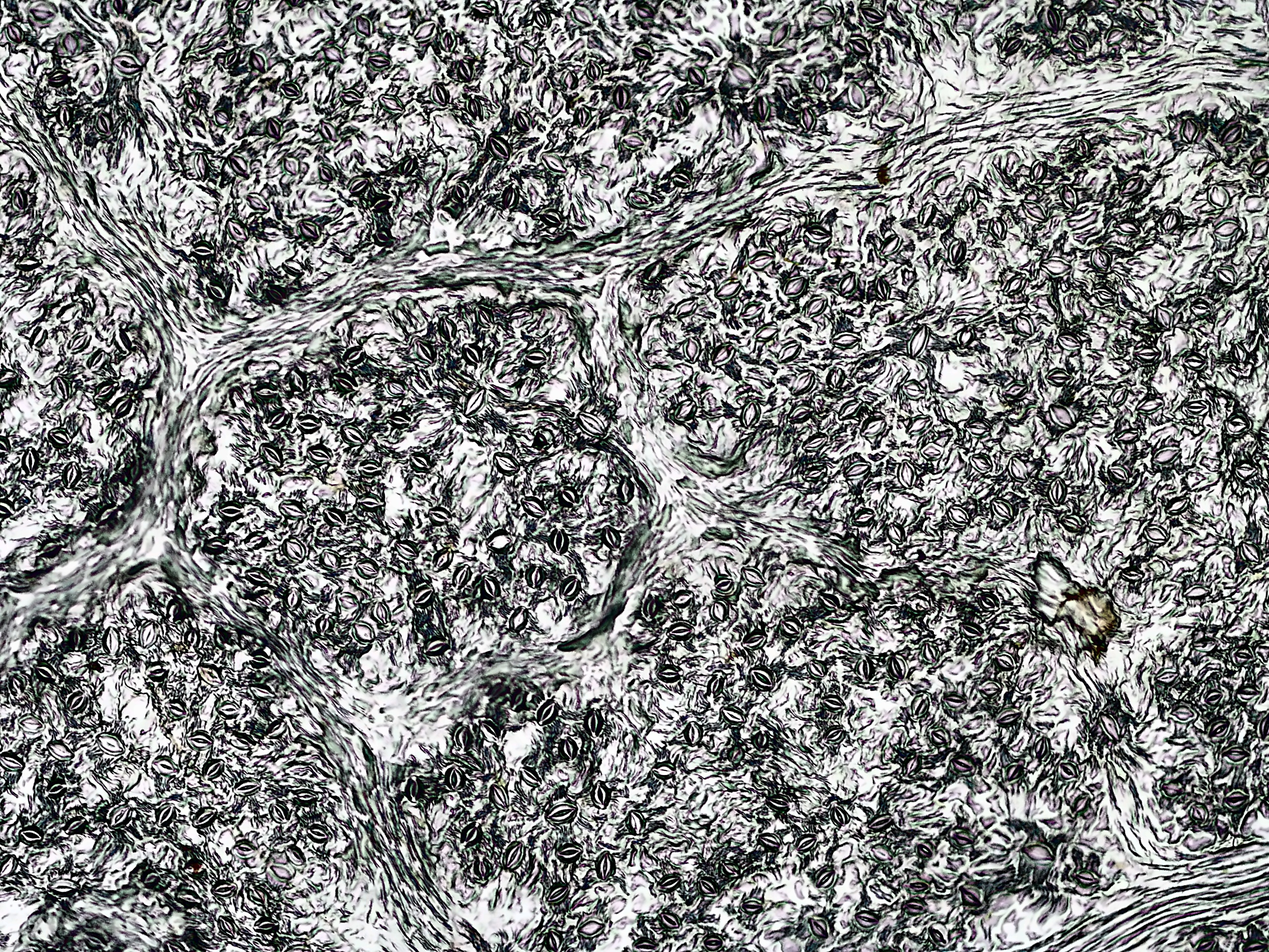stomata: (576, 409, 608, 438), (593, 850, 619, 882), (907, 324, 930, 360), (462, 386, 487, 416), (1040, 256, 1074, 278), (95, 732, 126, 756), (1049, 402, 1076, 429), (1098, 711, 1122, 741), (547, 801, 578, 823), (487, 135, 513, 161), (197, 663, 225, 687), (728, 61, 757, 84), (111, 52, 142, 73), (495, 451, 521, 476), (487, 529, 514, 553), (1022, 198, 1049, 222), (847, 82, 870, 110), (222, 219, 251, 241), (502, 841, 524, 870), (590, 780, 611, 810), (830, 330, 863, 349), (1003, 272, 1028, 297), (540, 150, 568, 172), (709, 345, 737, 367), (490, 782, 512, 810), (260, 442, 284, 467), (354, 494, 387, 512), (770, 22, 792, 49), (556, 841, 583, 863), (279, 499, 307, 520), (667, 621, 695, 642), (1091, 247, 1112, 275), (897, 460, 917, 489), (104, 626, 122, 658), (341, 423, 366, 446), (776, 340, 801, 363), (797, 106, 819, 132), (185, 730, 215, 749), (405, 775, 424, 805), (549, 528, 570, 555), (47, 878, 80, 895), (1022, 845, 1055, 862), (152, 755, 180, 775), (1046, 367, 1074, 387), (1224, 744, 1252, 764), (193, 151, 211, 182), (228, 153, 251, 177), (586, 708, 605, 737), (1073, 870, 1102, 889), (394, 538, 419, 560), (415, 338, 437, 363), (190, 239, 216, 260), (217, 500, 243, 521), (284, 537, 305, 563), (559, 574, 580, 600), (715, 278, 741, 299), (1008, 457, 1029, 483), (520, 497, 547, 517), (742, 402, 762, 429), (626, 809, 646, 836), (1058, 184, 1078, 211), (889, 653, 909, 680), (510, 606, 529, 634), (559, 734, 578, 762), (577, 919, 605, 938), (1221, 789, 1249, 808), (97, 502, 120, 525), (674, 400, 697, 423), (193, 807, 216, 830), (674, 297, 698, 319), (792, 371, 814, 395), (109, 806, 133, 828), (155, 803, 177, 827), (750, 667, 774, 689), (380, 94, 405, 115), (632, 40, 657, 61), (806, 223, 831, 244), (1226, 414, 1251, 435), (960, 886, 985, 907), (21, 447, 39, 476), (111, 394, 131, 420), (62, 461, 82, 487), (526, 563, 546, 589), (0, 752, 26, 772), (452, 724, 472, 750), (516, 766, 542, 786), (966, 418, 992, 438), (603, 524, 622, 551), (613, 85, 632, 112), (1154, 304, 1173, 331), (502, 182, 519, 212), (48, 427, 71, 449), (39, 537, 62, 559), (474, 305, 496, 328), (862, 415, 885, 437), (991, 496, 1014, 518), (67, 331, 91, 352), (206, 280, 230, 301), (334, 372, 358, 393), (323, 506, 347, 527), (356, 557, 380, 578), (879, 233, 900, 257), (1013, 313, 1034, 337), (1048, 478, 1066, 506), (855, 655, 873, 683), (1241, 539, 1262, 563), (408, 451, 433, 471), (860, 5, 885, 25), (626, 189, 651, 209), (749, 250, 774, 270), (179, 887, 204, 907), (245, 567, 271, 586), (230, 732, 256, 751), (1043, 6, 1062, 32), (948, 239, 967, 265), (1162, 209, 1181, 235), (957, 324, 976, 350), (1153, 448, 1182, 465), (0, 852, 18, 879), (1115, 218, 1142, 236), (1069, 32, 1091, 54), (809, 917, 831, 939), (2, 21, 23, 44), (246, 191, 269, 212), (298, 218, 321, 239), (987, 217, 1008, 240), (1207, 718, 1230, 739), (52, 376, 72, 400), (428, 506, 452, 526), (353, 620, 373, 644), (682, 337, 702, 361), (461, 823, 481, 847), (906, 415, 930, 435), (465, 94, 484, 119), (244, 530, 269, 549), (838, 272, 857, 297), (49, 741, 74, 760), (481, 718, 500, 743), (617, 477, 635, 503), (754, 96, 772, 122), (217, 701, 243, 719), (910, 693, 928, 719), (1171, 702, 1197, 720), (141, 620, 157, 649), (292, 789, 321, 805), (557, 485, 578, 507), (547, 883, 569, 904), (29, 1, 52, 21), (414, 19, 434, 42), (525, 347, 548, 367), (533, 425, 553, 448), (284, 844, 307, 864), (538, 703, 558, 726), (1208, 185, 1228, 208), (903, 380, 926, 400), (742, 565, 765, 585), (59, 31, 78, 55), (319, 118, 338, 142), (93, 381, 117, 400), (308, 445, 332, 464), (316, 613, 335, 637), (433, 547, 452, 571), (838, 400, 862, 419), (658, 873, 682, 892), (920, 442, 944, 461), (366, 51, 391, 69), (453, 564, 471, 589), (482, 575, 500, 600), (307, 824, 332, 842), (1137, 398, 1167, 413), (1060, 514, 1085, 532), (657, 664, 682, 682), (873, 275, 890, 301), (248, 682, 274, 699), (1057, 334, 1083, 351), (721, 707, 747, 724), (685, 721, 702, 747), (783, 276, 804, 297), (248, 885, 269, 906), (337, 591, 359, 611), (34, 663, 56, 683), (1216, 265, 1238, 285), (829, 806, 849, 828), (517, 44, 536, 67), (812, 5, 835, 24), (807, 296, 826, 319), (826, 367, 845, 390), (1135, 4, 1158, 23), (1120, 175, 1143, 194), (653, 761, 676, 780), (979, 593, 1002, 612), (13, 255, 42, 270), (321, 45, 345, 63), (29, 325, 47, 349), (848, 37, 872, 55), (19, 714, 43, 732), (233, 839, 257, 857), (474, 857, 492, 881), (1004, 380, 1028, 398), (1144, 525, 1168, 543), (903, 898, 927, 916), (742, 632, 766, 650), (1154, 669, 1181, 685), (1161, 780, 1185, 798), (432, 82, 449, 107), (282, 260, 307, 277), (358, 460, 383, 477), (739, 303, 764, 320), (845, 461, 870, 478), (145, 662, 170, 679), (267, 410, 288, 430), (462, 343, 483, 363), (714, 575, 735, 595), (270, 802, 290, 823), (94, 115, 113, 137), (542, 209, 564, 228), (671, 97, 690, 119), (702, 933, 724, 952), (1109, 386, 1128, 408), (902, 755, 921, 777), (440, 315, 456, 341), (1182, 118, 1198, 144), (266, 117, 284, 140), (87, 349, 105, 372), (284, 587, 302, 610), (574, 105, 592, 128), (622, 133, 645, 151), (789, 405, 812, 423), (446, 767, 464, 790), (544, 929, 562, 952), (970, 454, 993, 472), (856, 910, 879, 928), (11, 187, 28, 211), (375, 600, 392, 624), (424, 638, 448, 655), (803, 434, 827, 451), (68, 626, 85, 650), (1215, 221, 1239, 238), (1135, 345, 1159, 362), (888, 522, 905, 546), (1114, 429, 1141, 444), (290, 368, 306, 393), (345, 345, 365, 365), (235, 779, 260, 795), (321, 549, 340, 570), (699, 877, 720, 896), (1222, 123, 1241, 144), (949, 506, 970, 525), (183, 87, 201, 109), (374, 229, 396, 247), (711, 601, 729, 623), (1189, 300, 1211, 318), (852, 507, 874, 525), (780, 617, 802, 635), (952, 755, 974, 773), (283, 153, 300, 176), (456, 59, 473, 82), (265, 285, 288, 302), (205, 536, 228, 553), (767, 217, 790, 234), (64, 817, 87, 834), (1122, 566, 1145, 583), (767, 794, 790, 811), (752, 326, 778, 341), (1186, 584, 1212, 599), (255, 384, 279, 400), (643, 593, 659, 617), (20, 828, 44, 844), (349, 175, 368, 195), (573, 5, 593, 24), (1060, 761, 1079, 781), (204, 760, 225, 778), (633, 937, 658, 952), (1192, 638, 1217, 653), (250, 51, 267, 73), (452, 181, 469, 203), (635, 2, 657, 19), (68, 691, 85, 713), (220, 915, 237, 937), (871, 843, 893, 860), (923, 641, 940, 663), (960, 621, 982, 638), (995, 654, 1017, 671), (116, 328, 132, 351), (919, 201, 935, 224), (57, 304, 76, 323), (414, 588, 433, 607), (660, 911, 679, 930), (928, 926, 947, 945), (515, 108, 530, 132), (254, 918, 278, 933), (512, 688, 527, 712), (1075, 138, 1093, 158), (797, 834, 817, 852), (868, 815, 892, 830), (951, 830, 975, 845), (943, 693, 967, 708), (534, 9, 551, 30), (812, 72, 829, 93), (645, 260, 662, 281), (8, 675, 25, 696), (1190, 802, 1207, 823), (340, 89, 362, 105), (401, 155, 417, 177), (299, 416, 321, 432), (388, 412, 410, 428), (586, 60, 602, 82), (1235, 461, 1257, 477), (1167, 497, 1189, 513), (819, 594, 841, 610), (472, 3, 497, 17), (212, 882, 237, 896), (1031, 159, 1045, 184), (964, 185, 979, 208), (1184, 352, 1207, 367), (998, 709, 1021, 724), (1238, 685, 1261, 700), (47, 779, 66, 797), (1109, 465, 1128, 483), (817, 870, 836, 888), (808, 659, 826, 678), (673, 591, 693, 608), (562, 70, 579, 90), (182, 628, 199, 648), (167, 699, 187, 716), (224, 48, 240, 69), (356, 17, 372, 38), (803, 466, 827, 480), (753, 730, 769, 751), (756, 833, 780, 847), (929, 729, 950, 745), (823, 694, 845, 709), (1035, 736, 1048, 761), (1106, 27, 1125, 44), (1252, 158, 1269, 177), (282, 82, 302, 98), (318, 162, 334, 182), (689, 66, 705, 86), (250, 650, 270, 666), (47, 70, 68, 85), (0, 497, 15, 518), (1232, 342, 1247, 363), (708, 676, 723, 697), (722, 861, 743, 876), (442, 32, 456, 54), (0, 368, 17, 386), (1205, 689, 1223, 706), (373, 196, 392, 212), (1006, 763, 1022, 782), (1234, 648, 1253, 664), (823, 726, 843, 741), (1186, 400, 1209, 413), (57, 105, 71, 126), (268, 720, 285, 737), (1005, 37, 1022, 54), (387, 380, 405, 396), (743, 898, 762, 913), (1259, 714, 1269, 742), (673, 172, 692, 186), (981, 681, 1000, 695), (918, 842, 934, 858), (1096, 288, 1116, 300), (214, 110, 231, 124), (110, 0, 128, 13), (1246, 941, 1267, 952), (1195, 940, 1214, 952), (909, 880, 929, 891), (237, 0, 253, 12), (0, 434, 10, 453)
